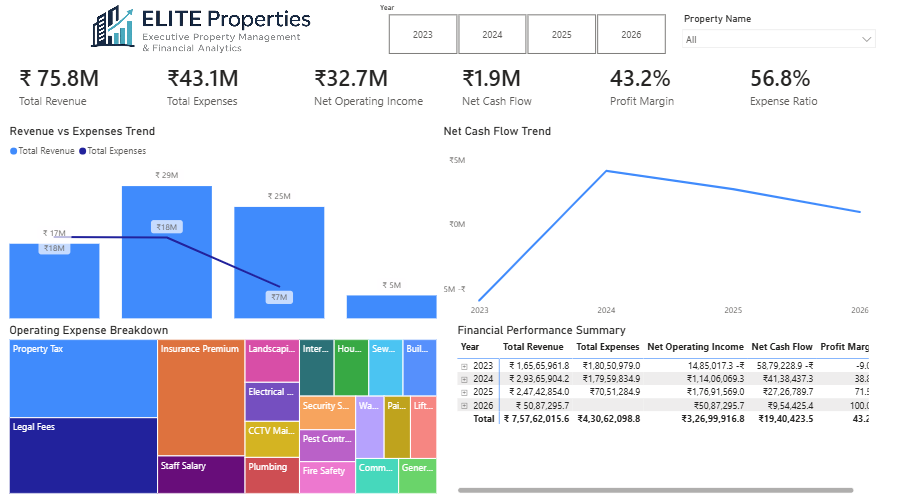

Layout of this report page (visuals, bound fields, positions):
{"tool":"powerbi","page":{"name":"Financial Performance Analytics","canvas":[1280,720],"ordinal":3},"visuals":[{"type":"cardVisual","fields":{"Data":["All Measures.Total Revenue"]},"box":[0,69.1,220,105.1],"z":0},{"type":"cardVisual","fields":{"Data":["All Measures.Total Expenses"]},"box":[214,69.1,220,105.1],"z":1000},{"type":"cardVisual","fields":{"Data":["All Measures.NOI"]},"box":[428,69.1,220,105.1],"z":2000},{"type":"cardVisual","fields":{"Data":["All Measures.Net Cash Flow"]},"box":[642,69.1,220,105.1],"z":3000},{"type":"cardVisual","fields":{"Data":["All Measures.Profit Margin %"]},"box":[855.9,69.1,220,105.1],"z":4000},{"type":"cardVisual","fields":{"Data":["All Measures.Expense Ratio %"]},"box":[1060,69.1,220,105.1],"z":5000},{"type":"lineClusteredColumnComboChart","title":"Revenue vs Expenses Trend","fields":{"Category":["Calendar.Year"],"Y":["All Measures.Total Revenue"],"Y2":["All Measures.Total Expenses"]},"box":[10.1,180,629.3,288],"z":6000},{"type":"lineChart","title":"Net Cash Flow Trend","fields":{"Category":["Calendar.Year"],"Y":["All Measures.Net Cash Flow"]},"box":[639.4,180,626.4,288],"z":7000},{"type":"treemap","title":"Operating Expense Breakdown","fields":{"Group":["fact expenses.category"],"Values":["All Measures.Total Expenses"]},"box":[10.1,468,629.3,252],"z":8000},{"type":"pivotTable","title":"Financial Performance Summary","fields":{"Rows":["Calendar.Year","Calendar.Month"],"Values":["All Measures.Total Revenue","All Measures.Total Expenses","All Measures.NOI","All Measures.Net Cash Flow","All Measures.Profit Margin %"]},"box":[659.5,468,606.2,252],"z":9000},{"type":"image","box":[0,0,586.1,106.6],"z":10000},{"type":"slicer","fields":{"Values":["dim properties.name"]},"box":[979.3,15.1,300.7,105.8],"z":11000},{"type":"slicer","fields":{"Values":["Calendar.Year"]},"box":[538.6,0,450.7,85],"z":12000}]}

Visuals, with their boxes in screenshot pixels (x1, y1, x2, y2), scaled from the page's 1280x720 canvas onto the 898x504 screenshot:
cardVisual - All Measures.Total Revenue: (x1=0, y1=48, x2=154, y2=122)
cardVisual - All Measures.Total Expenses: (x1=150, y1=48, x2=304, y2=122)
cardVisual - All Measures.NOI: (x1=300, y1=48, x2=455, y2=122)
cardVisual - All Measures.Net Cash Flow: (x1=450, y1=48, x2=605, y2=122)
cardVisual - All Measures.Profit Margin %: (x1=600, y1=48, x2=755, y2=122)
cardVisual - All Measures.Expense Ratio %: (x1=744, y1=48, x2=897, y2=122)
"Revenue vs Expenses Trend" lineClusteredColumnComboChart: (x1=7, y1=126, x2=449, y2=328)
"Net Cash Flow Trend" lineChart: (x1=449, y1=126, x2=888, y2=328)
"Operating Expense Breakdown" treemap: (x1=7, y1=328, x2=449, y2=503)
"Financial Performance Summary" pivotTable: (x1=463, y1=328, x2=888, y2=503)
image: (x1=0, y1=0, x2=411, y2=75)
slicer - dim properties.name: (x1=687, y1=11, x2=897, y2=85)
slicer - Calendar.Year: (x1=378, y1=0, x2=694, y2=59)
